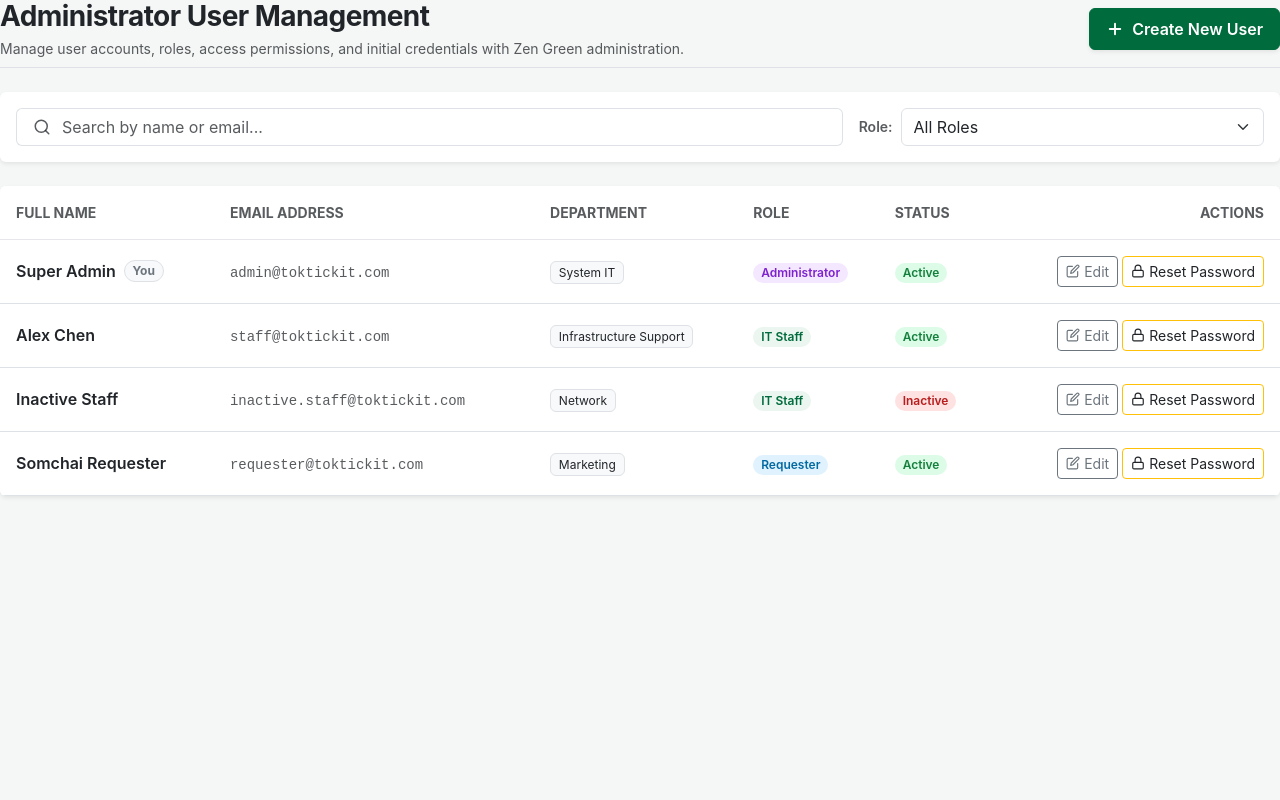
UserManagementView Component (Issue 27 / FR-15..20 / AC-09..12) › opens Create User modal, validates password criteria, and successfully creates user
Open modal
Step 1. Click the button with test id "create-user-btn" → click(1185, 29), box 1089,8 -> 1279,50
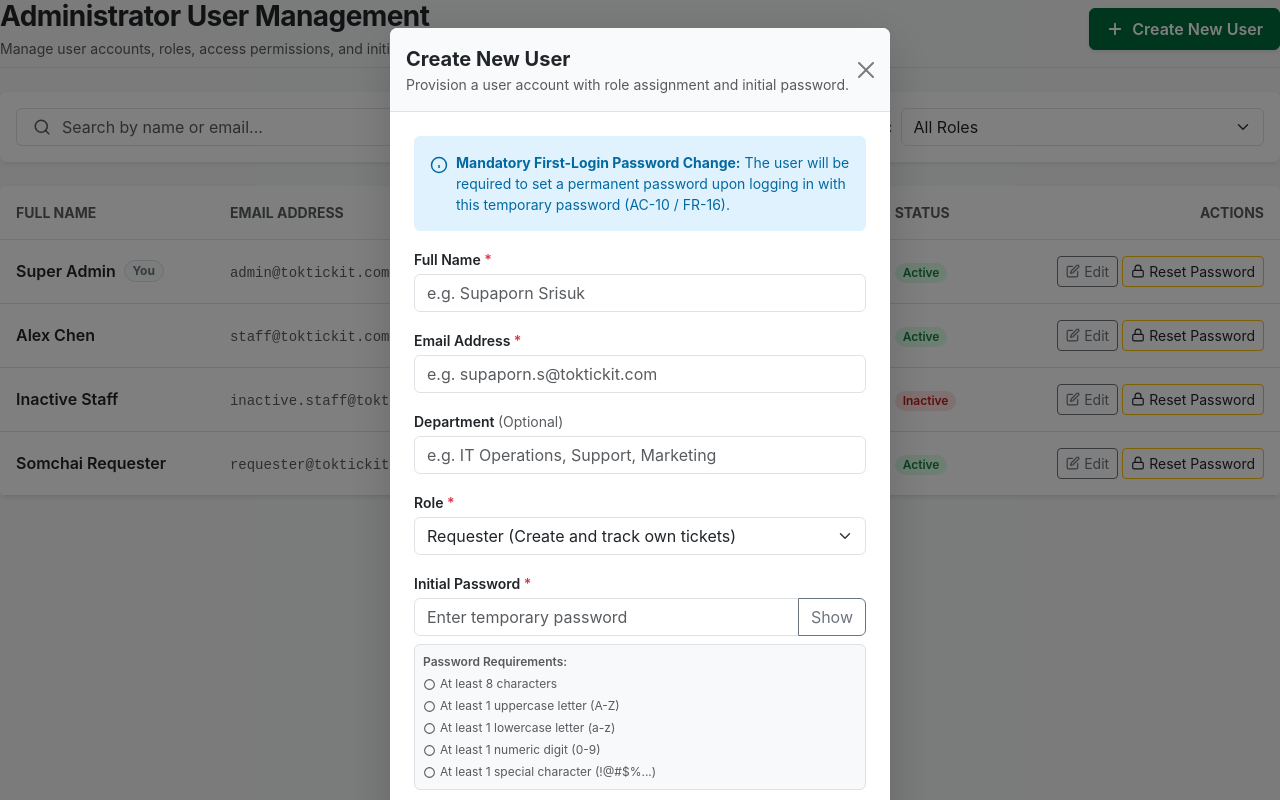
Check: the heading "Create New User" is shown, box 406,47 -> 570,71
Fill form
Step 2. Type "New Team Member" into the field with test id "create-user-fullname" → (640, 293), box 414,274 -> 866,312
Step 3. Type "new.user@toktickit.com" into the field with test id "create-user-email" → (640, 374), box 414,355 -> 866,393
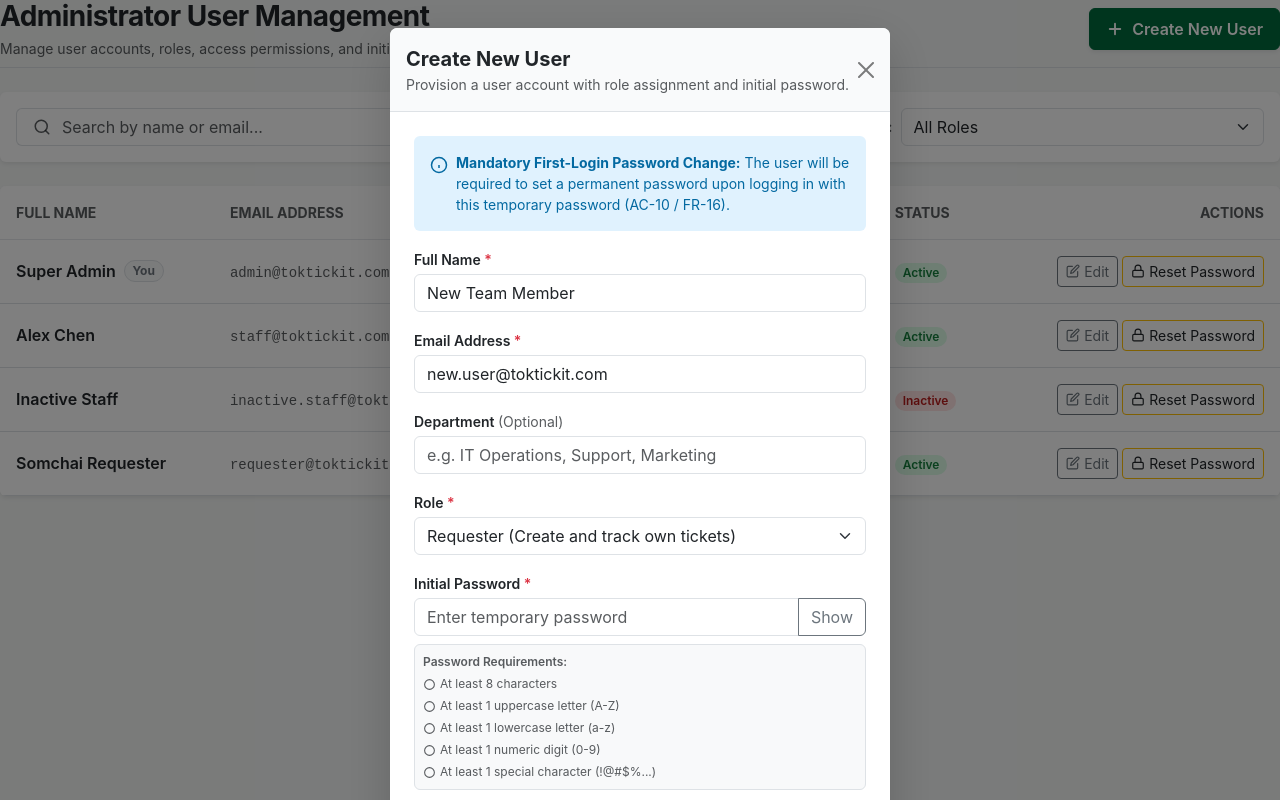
Step 4. Type "Helpdesk" into the field with test id "create-user-department" → (640, 455), box 414,436 -> 866,474
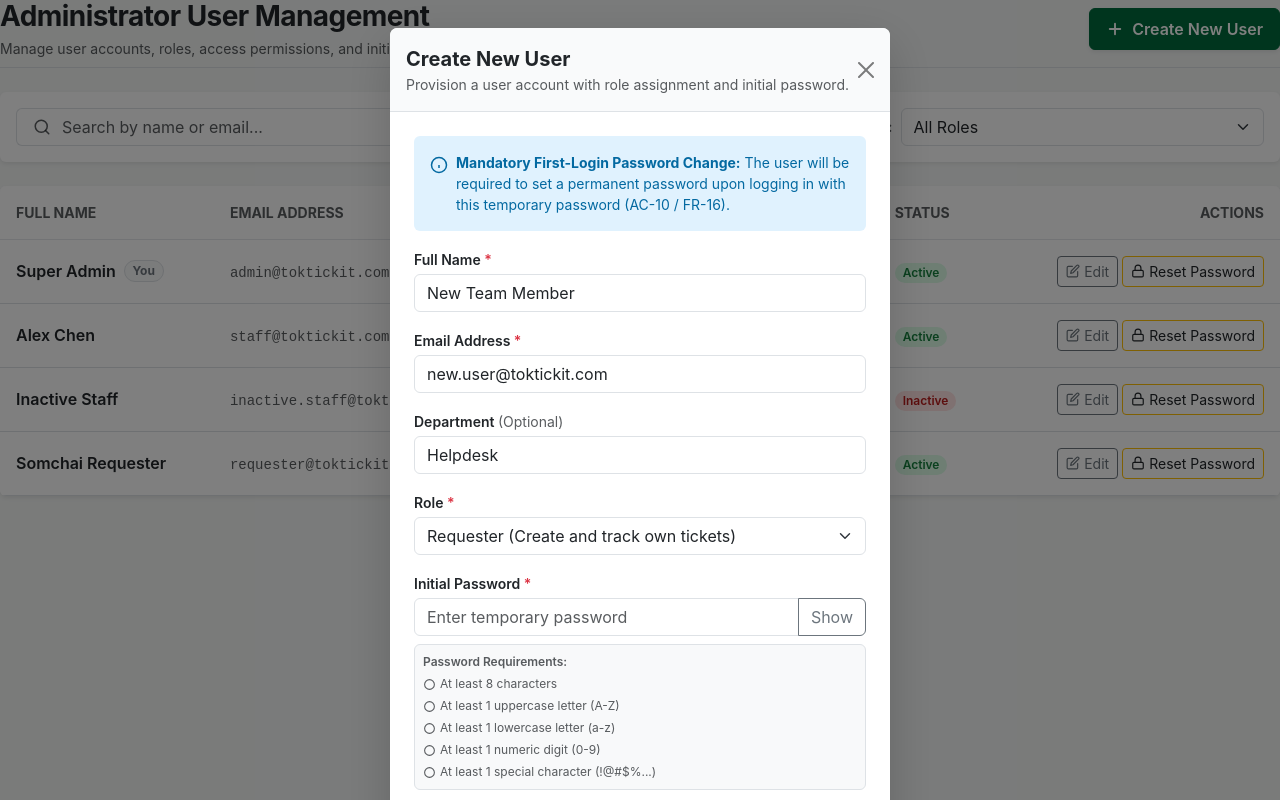
Step 5. Select "IT Staff (Claim, resolve, manage queue)" in the dropdown with test id "create-user-role" → (640, 536), box 414,517 -> 866,555
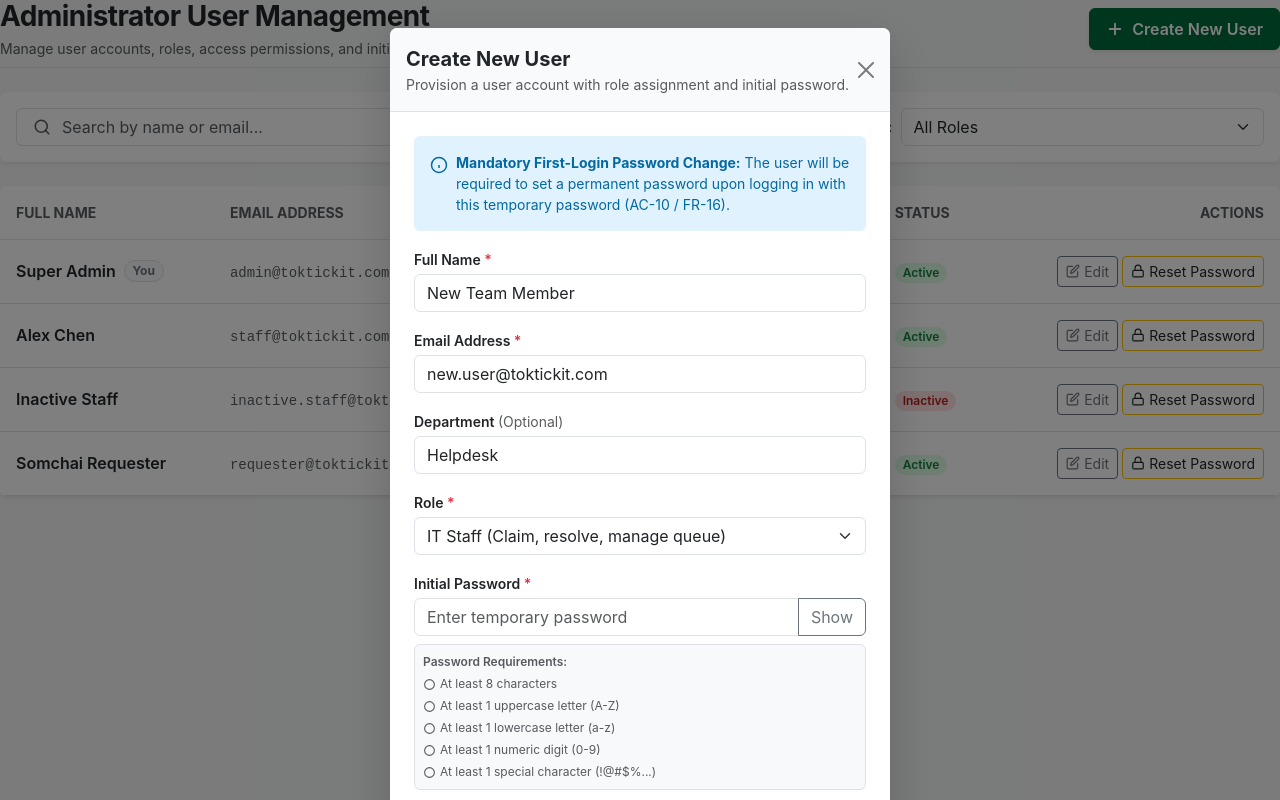
Step 6. Type "Admin_2026-Pass!" into the password field with test id "create-user-password" → (606, 617), box 414,598 -> 799,636
(page scrolled)
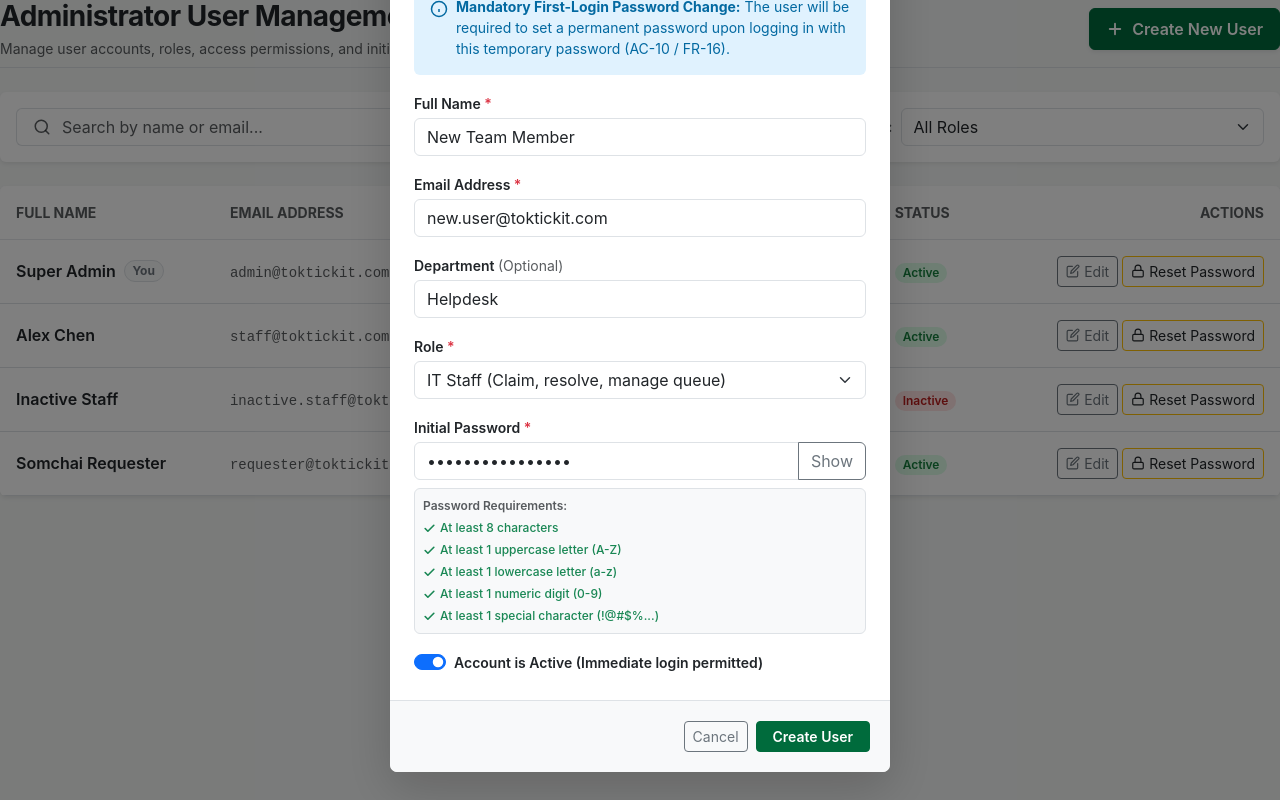
Step 7. Click the button with test id "submit-create-user" → click(813, 736), box 756,721 -> 870,752
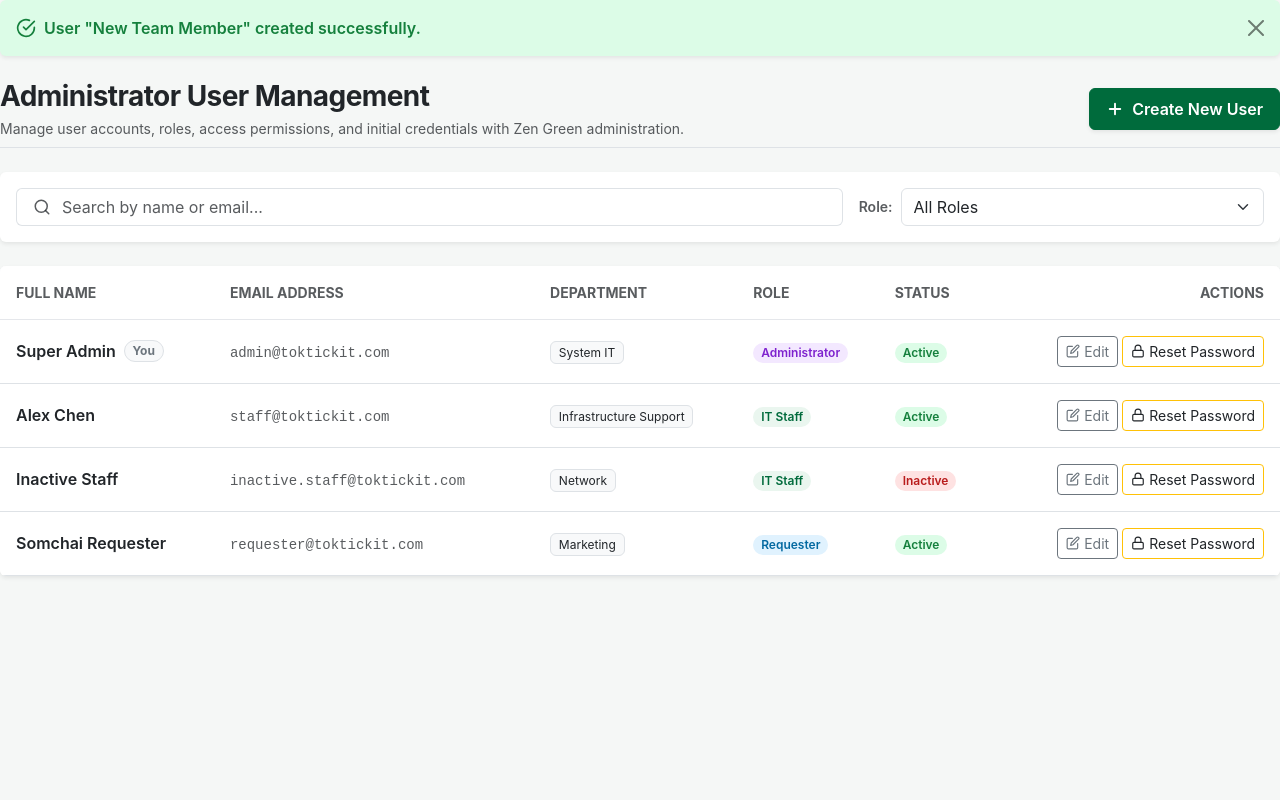
Check: the message with test id "success-toast" reads "User \"New Team Member\" created successfully.", box 44,18 -> 421,38
